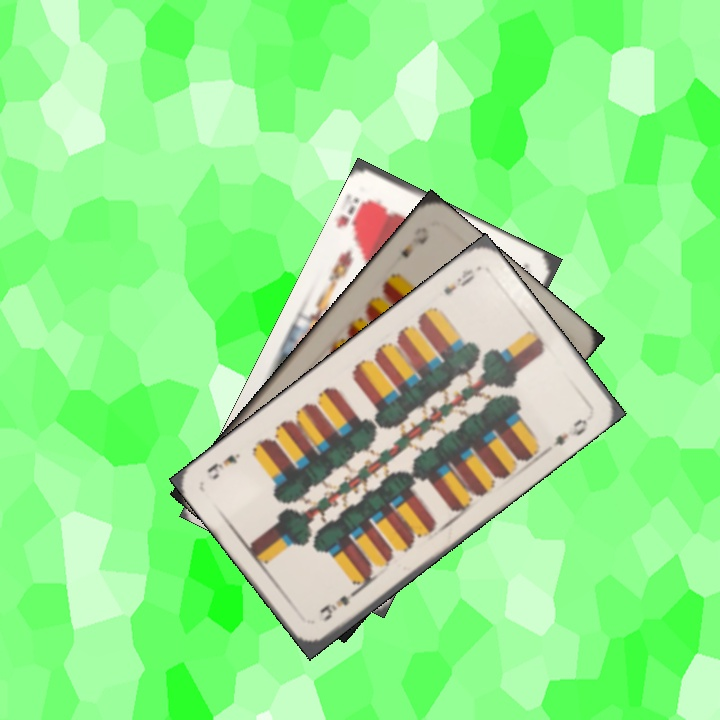E9: (396, 222, 432, 261), (439, 264, 478, 298), (316, 591, 353, 624)
HK: (343, 193, 375, 243)
